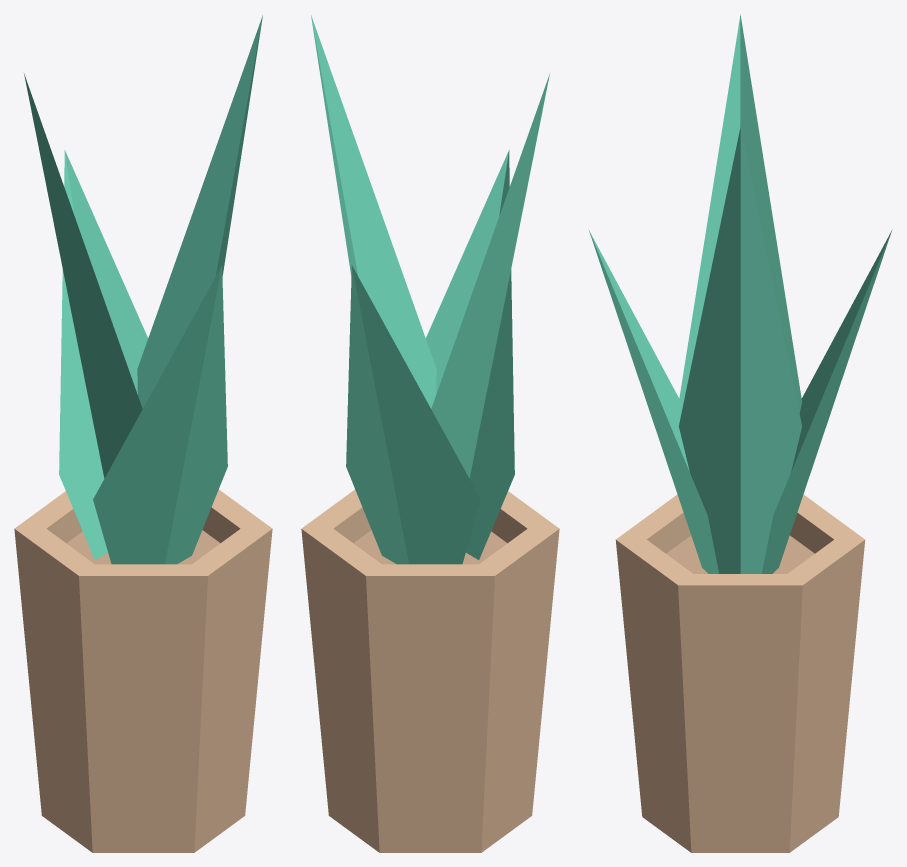
File: pottedPlant.glb
3 renders of one model, left to right at view 1: azimuth 30°, elevation 25°; view 2: azimuth 150°, elevation 25°; view 3: azimuth 270°, elevation 25°, orthographic. The views are drawn at different scales.
Parts seen in each view (by area): view 1: pottedPlant(Clone), plant; view 2: pottedPlant(Clone), plant; view 3: pottedPlant(Clone), plant.
Boxes of the visible parts, x1,y1,x2,y2 form: pottedPlant(Clone): [14, 489, 272, 852]; plant: [24, 15, 262, 564]; pottedPlant(Clone): [301, 489, 559, 852]; plant: [311, 15, 549, 564]; pottedPlant(Clone): [615, 494, 865, 852]; plant: [588, 14, 892, 573].
Bounding box in the file's own units: 0.2121 × 0.654 × 0.2415.
